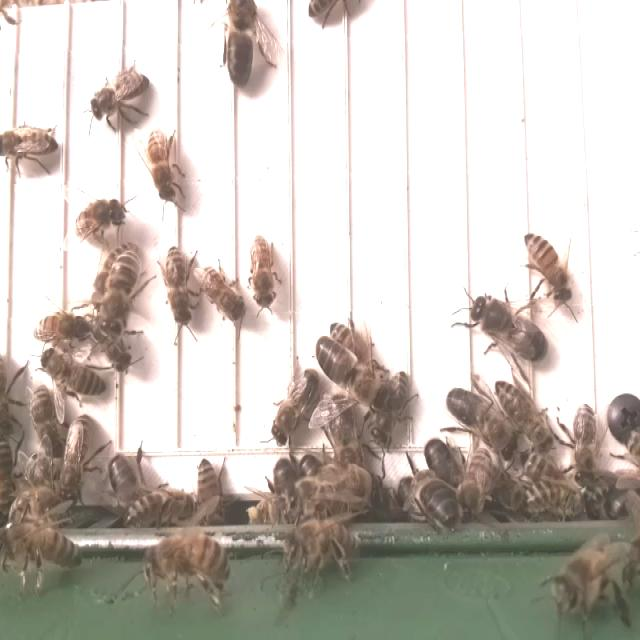Drone: (467, 291, 550, 370), (312, 331, 384, 409), (442, 380, 515, 456), (220, 0, 260, 94), (422, 434, 469, 497)
Worker: (494, 372, 553, 452), (519, 225, 574, 308), (270, 362, 322, 449), (37, 346, 110, 404), (98, 244, 140, 344), (85, 65, 152, 122), (197, 264, 250, 330), (374, 366, 413, 454), (70, 194, 130, 247), (61, 408, 93, 507), (162, 240, 196, 331), (142, 124, 179, 207), (0, 120, 62, 168), (28, 382, 65, 462), (570, 394, 601, 489), (29, 307, 104, 346), (248, 228, 279, 320)
